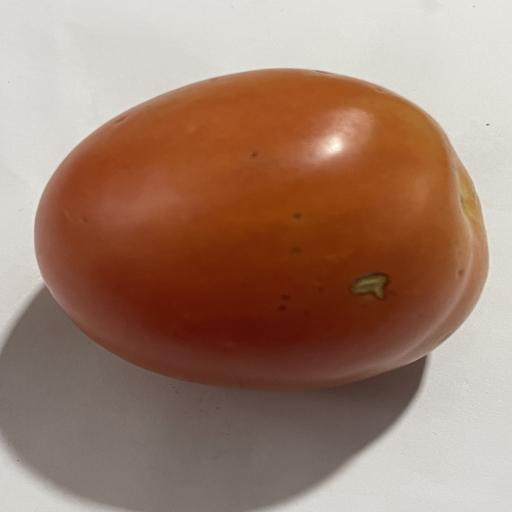ripe: (35, 69, 488, 390)
